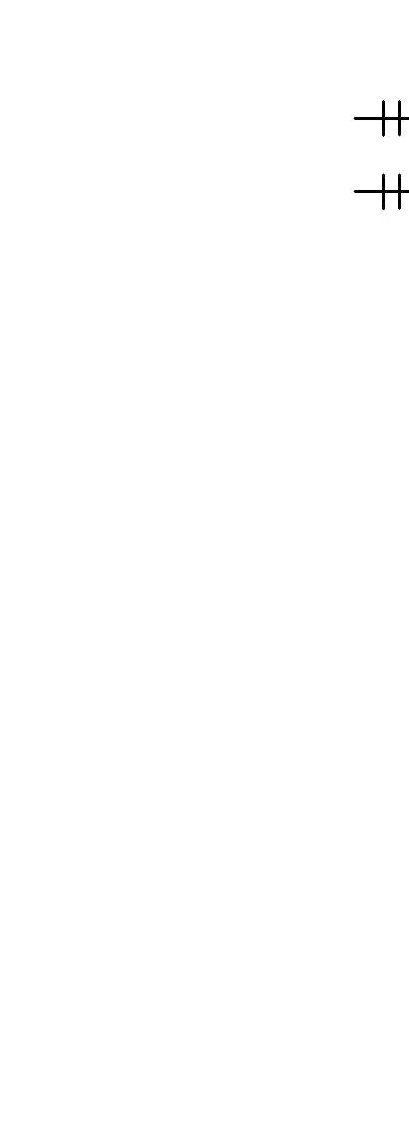115_buffer: (382, 100, 401, 137), (382, 173, 401, 210)
